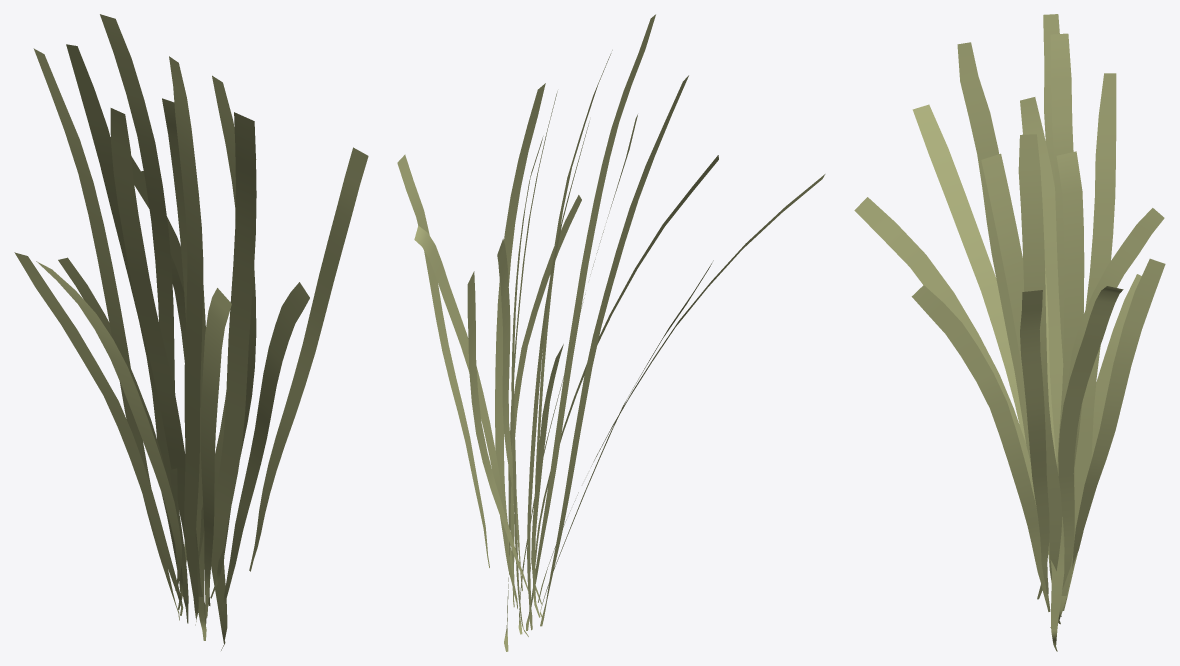
3 renders of one model, left to right at view 1: azimuth 30°, elevation 25°; view 2: azimuth 150°, elevation 25°; view 3: azimuth 270°, elevation 25°, orthographic. The views are drawn at different scales.
Parts seen in each view (by area): view 1: brush_DoubleTaperedFlat_g0_b0_0; view 2: brush_DoubleTaperedFlat_g0_b0_0; view 3: brush_DoubleTaperedFlat_g0_b0_0.
Boxes of the visible parts, <box> form: brush_DoubleTaperedFlat_g0_b0_0: <box>14,14,368,650</box>; brush_DoubleTaperedFlat_g0_b0_0: <box>397,14,825,651</box>; brush_DoubleTaperedFlat_g0_b0_0: <box>854,14,1165,651</box>.
Bounding box in the file's own units: 0.5151 × 0.8429 × 0.4162.
